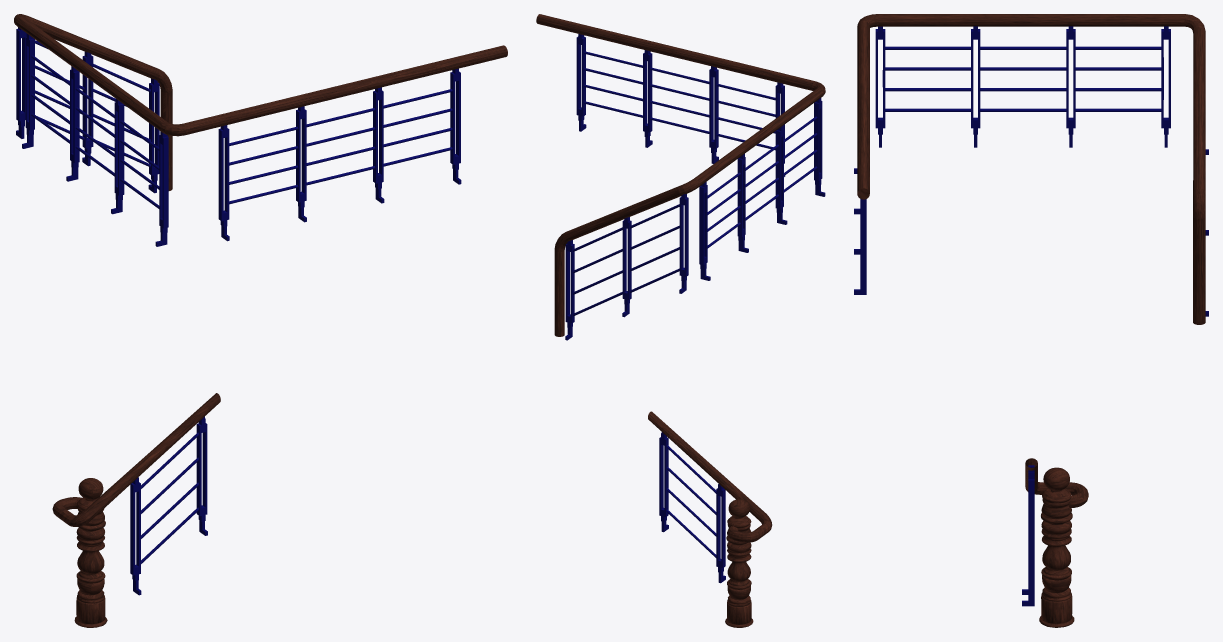
File: Stair_Handrail.fbx
3 views of the same model, side by side, from view 1: azimuth 30°, elevation 25°; view 2: azimuth 150°, elevation 25°; view 3: azimuth 270°, elevation 25° (orthographic). The views are drawn at different scales.
Parts seen in each view (by area): view 1: Stair_Handrail; view 2: Stair_Handrail; view 3: Stair_Handrail.
Part boxes in pixels (x1=…): Stair_Handrail: x1=14, y1=14, x2=507, y2=627; Stair_Handrail: x1=536, y1=14, x2=825, y2=627; Stair_Handrail: x1=854, y1=14, x2=1208, y2=627.
Bounding box in the file's own units: 275 × 418 × 223.
Materials: 2 (1 with a texture image).
